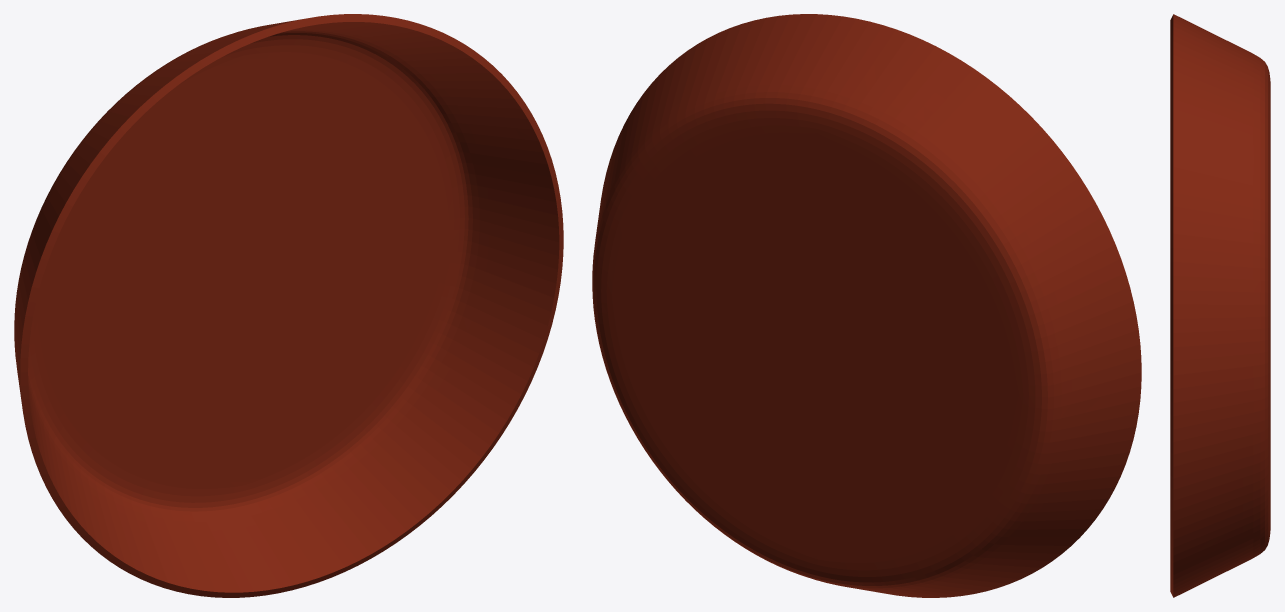
Rendered from pan_0.obj.
3 views of the same model, side by side, from view 1: azimuth 30°, elevation 25°; view 2: azimuth 150°, elevation 25°; view 3: azimuth 270°, elevation 25° (orthographic). The views are drawn at different scales.
Bounding box in the file's own units: 0.2381 × 0.2381 × 0.041.
